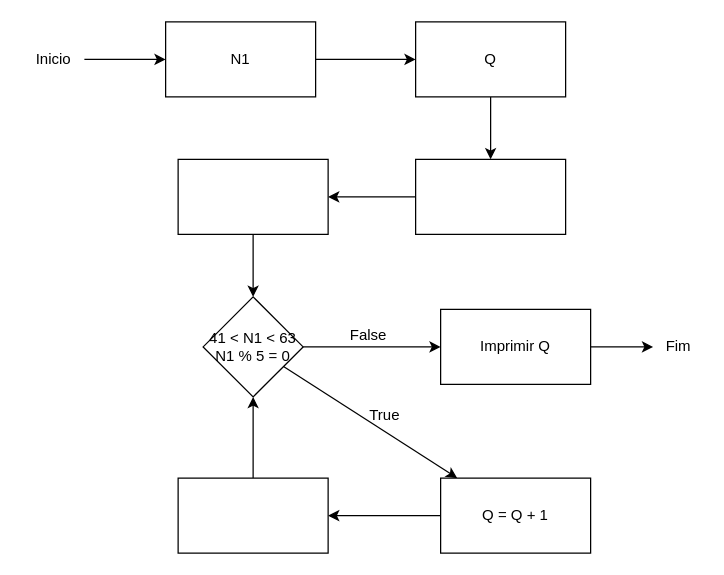
Image size: 724x575. Some labels were removed from this diagram. Here are the shapes that lost their labels. From the top down, the box of each, then its label:
(177, 158, 328, 234): Q = 0
(414, 158, 566, 234): N1 = 45
(177, 477, 328, 553): N1 = N1 + 5
